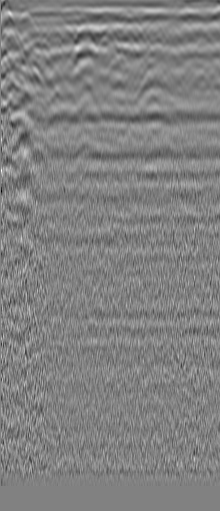오수: (13, 8, 43, 39)
우수: (182, 25, 213, 50)
